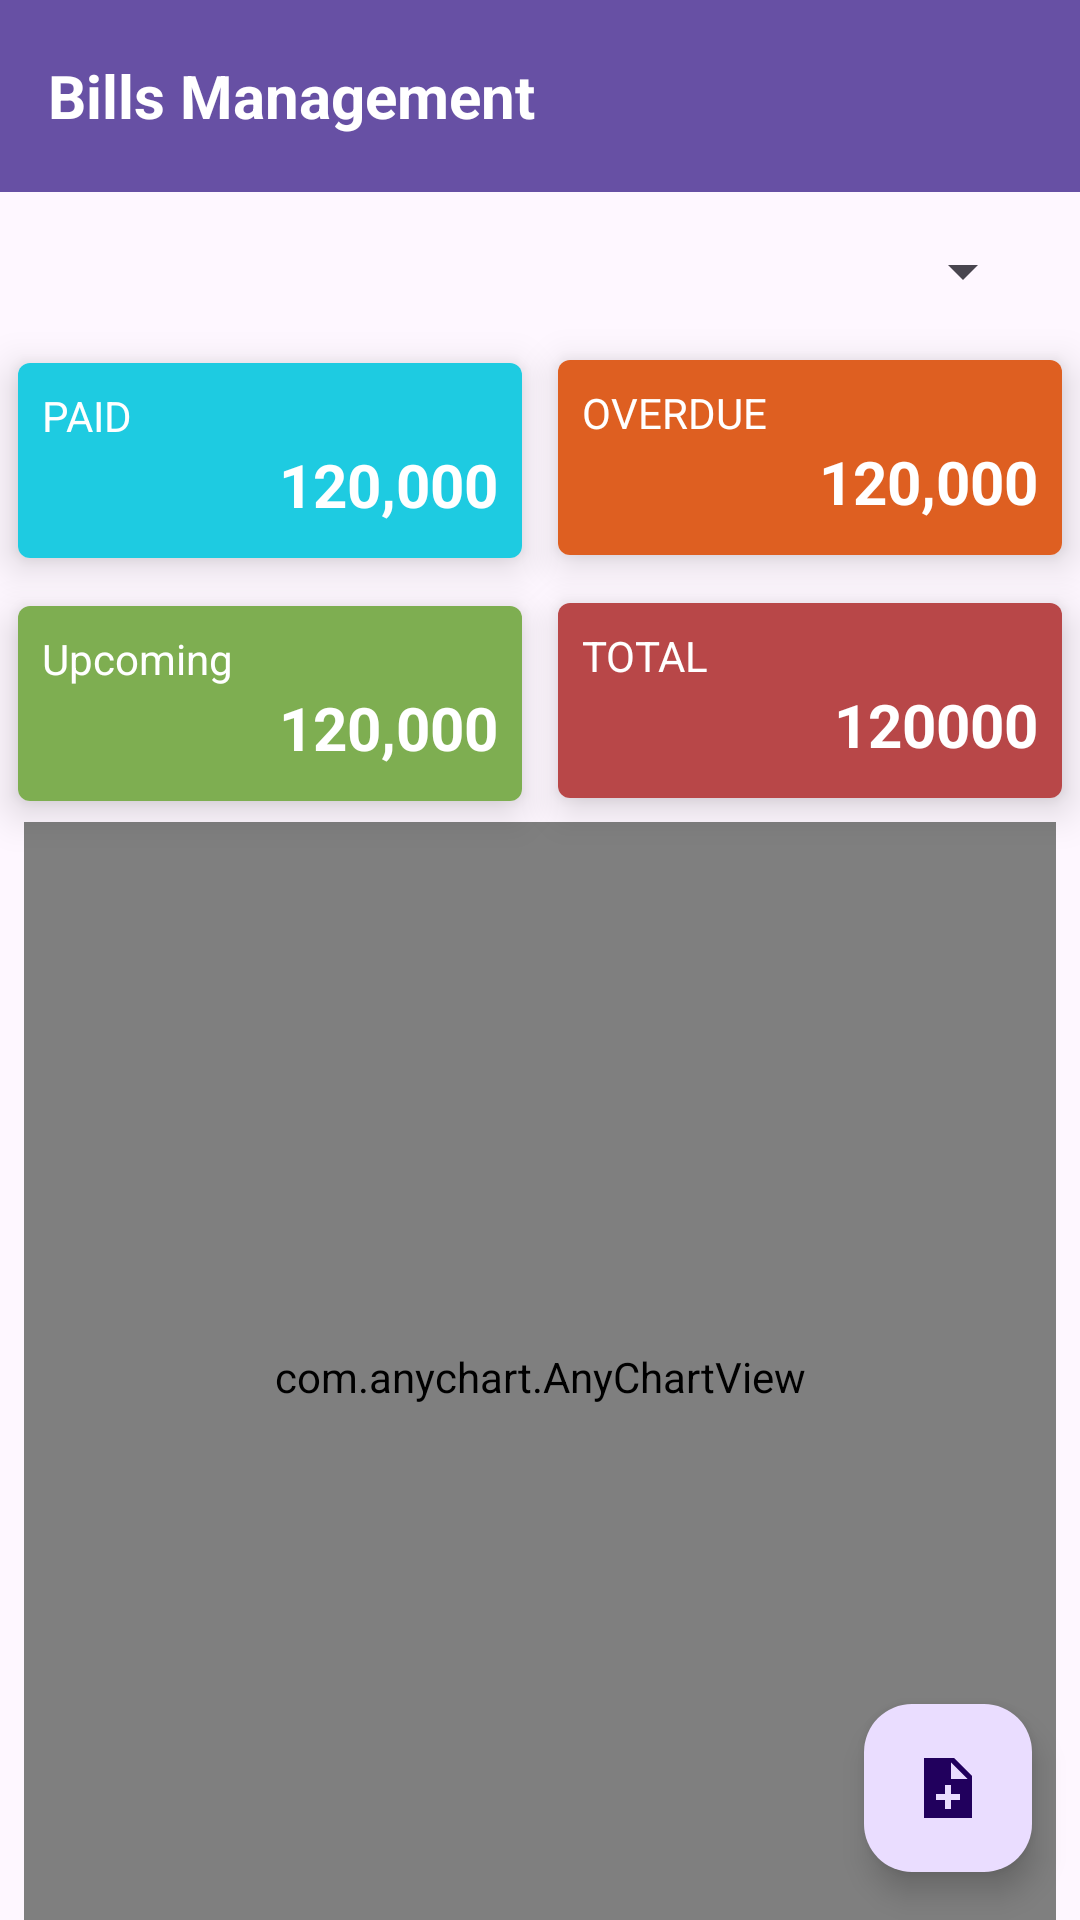

Icons on this 1080×1920 Android screen, each with the point to tap as point (x, y):
note add: point (948, 1788)
